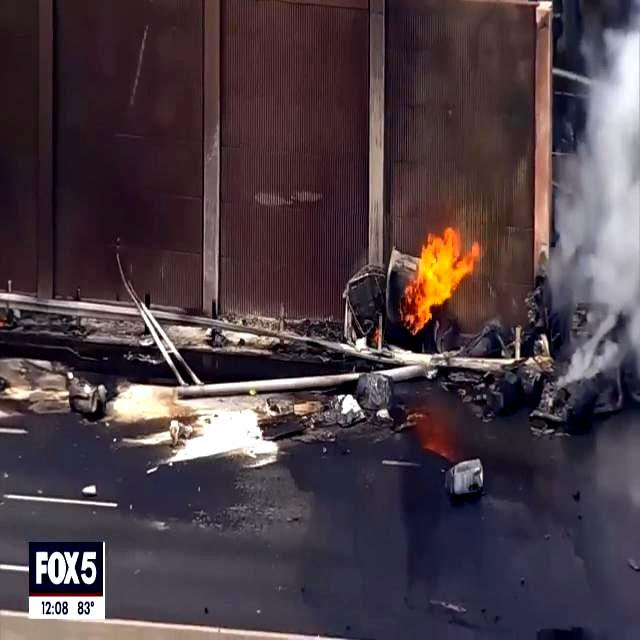fire: (406, 224, 476, 336)
